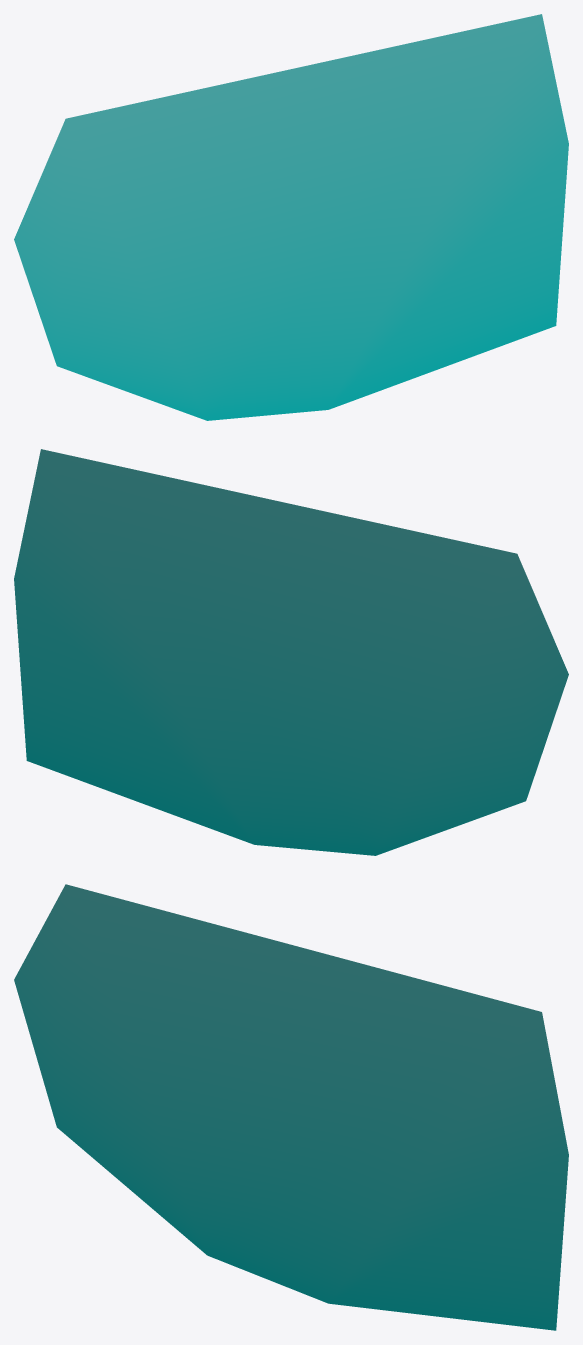
The model's file is Lady_Fern_wdvlditia_Mid_wdvlditia_VarF_LOD2.fbx.
3 views of the same model, one above another, from view 1: azimuth 30°, elevation 25°; view 2: azimuth 150°, elevation 25°; view 3: azimuth 330°, elevation 25° (orthographic).
Visible parts, largest first — view 1: _tfje_VarF_LOD6; view 2: _tfje_VarF_LOD6; view 3: _tfje_VarF_LOD6.
Boxes of the visible parts, box(x1,y1,x2,y2) form: _tfje_VarF_LOD6: box(14, 14, 568, 420); _tfje_VarF_LOD6: box(14, 449, 568, 855); _tfje_VarF_LOD6: box(14, 884, 568, 1330).
Bounding box in the file's own units: 135 × 82.36 × 0.
